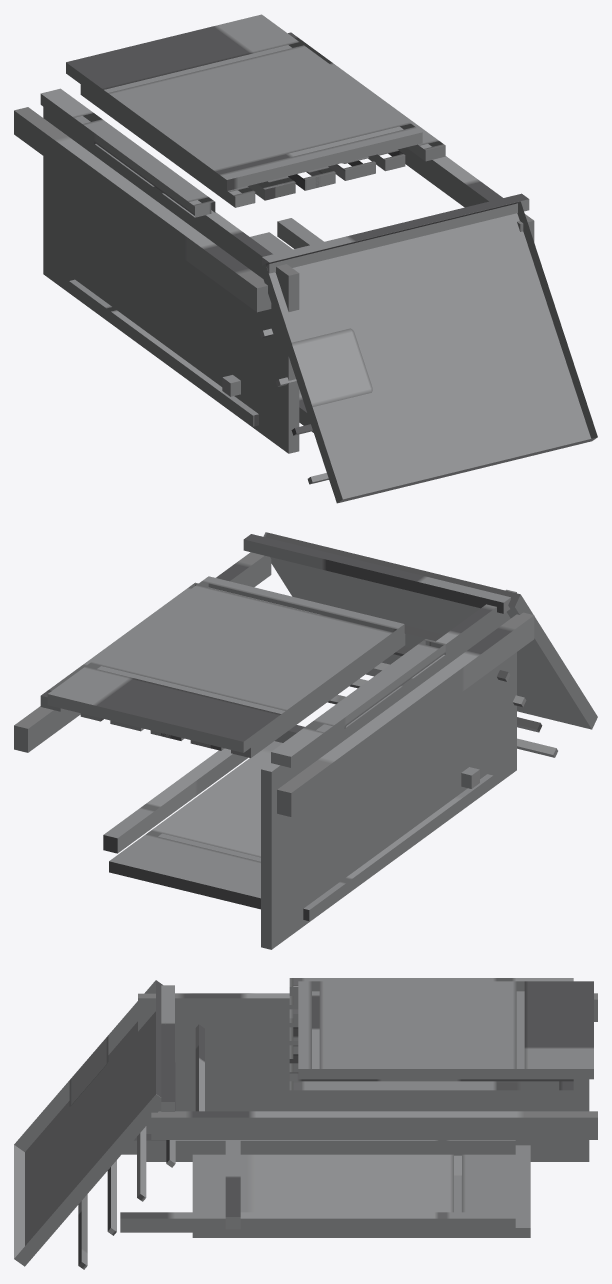
The picture shows the model from 3 angles, top to bottom: view 1: azimuth 30°, elevation 25°; view 2: azimuth 150°, elevation 25°; view 3: azimuth 270°, elevation 25°; orthographic projection. The views are drawn at different scales.
Bounding box in the file's own units: 0.9167 × 0.6654 × 1.82.
